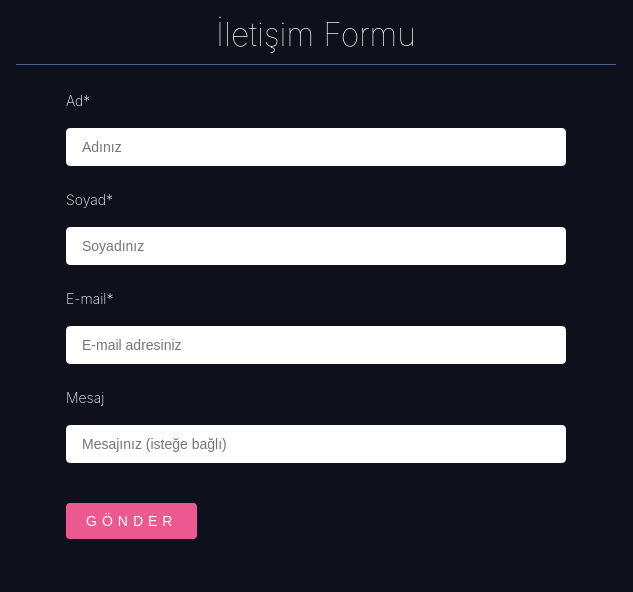
Test case: [6] geçersiz bir mail girildiğinde "Hata: email geçerli bir email adresi olmalıdır." hata mesajı render ediliyor
This screenshot has width=633, height=592.
Step 1. Type "123" into the field with test id "email-input" → (316, 345), box [66, 326, 566, 364]
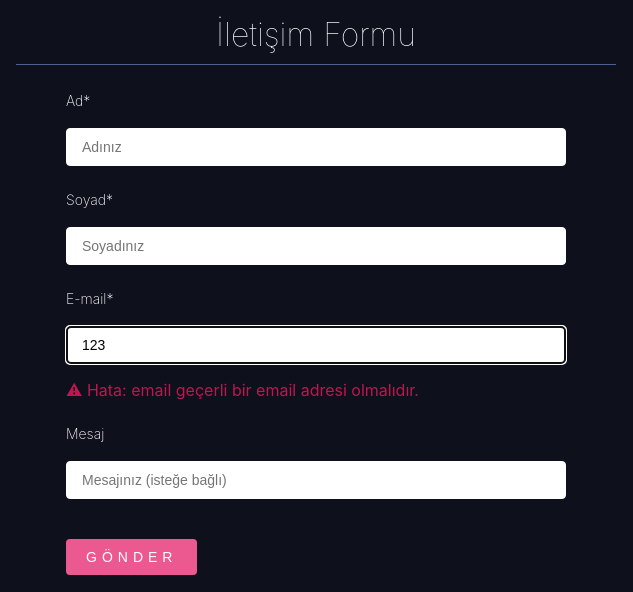
Expected: the text with test id "error" reads "Hata: email geçerli bir email adresi olmalıdır.", [87, 380, 419, 400]
